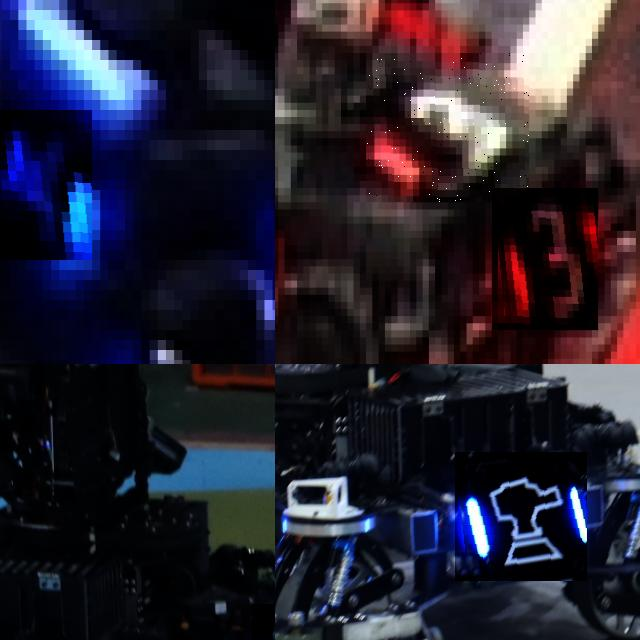B4: (0, 110, 92, 260)
Bs: (456, 452, 588, 581)
R3: (366, 53, 529, 202), (492, 188, 598, 330)
